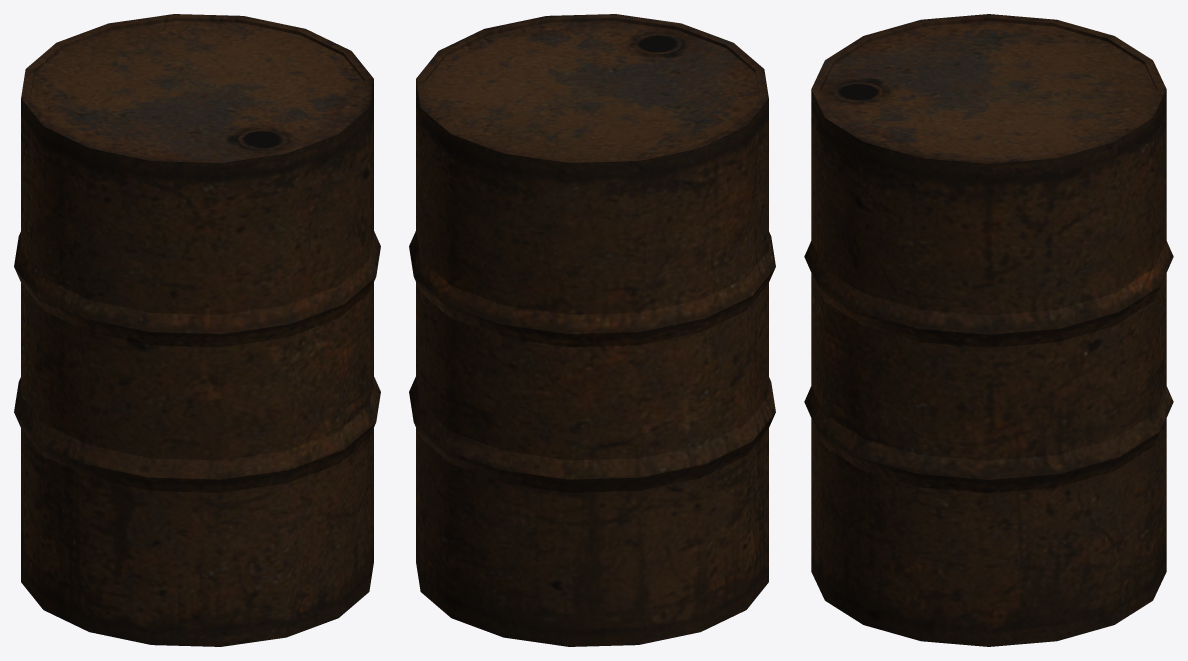
Rendered from metal_barrel_mp_3.fbx.
3 renders of one model, left to right at view 1: azimuth 30°, elevation 25°; view 2: azimuth 150°, elevation 25°; view 3: azimuth 270°, elevation 25°, orthographic.
Parts seen in each view (by area): view 1: metal_barrel_mp_3; view 2: metal_barrel_mp_3; view 3: metal_barrel_mp_3.
Boxes of the visible parts, left/top/right/bottom form: metal_barrel_mp_3: left=14, top=14, right=380, bottom=646; metal_barrel_mp_3: left=409, top=14, right=775, bottom=646; metal_barrel_mp_3: left=804, top=14, right=1173, bottom=646.
Bounding box in the file's own units: 0.7488 × 0.7488 × 1.08.
